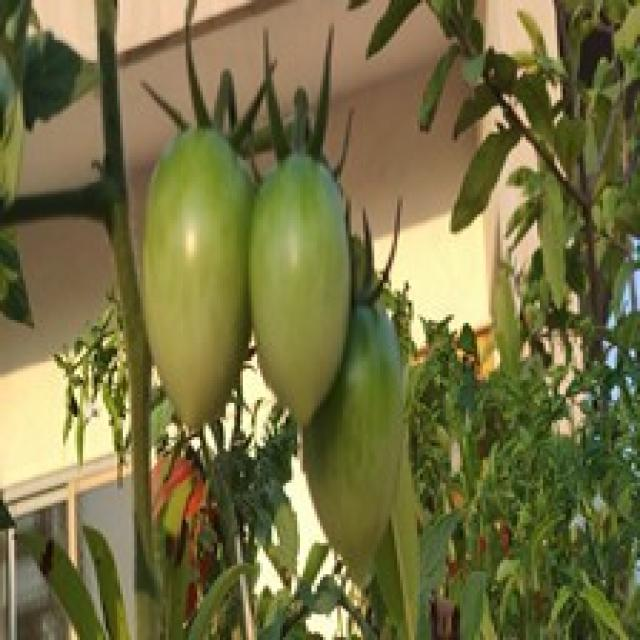tomato: (152, 128, 260, 451), (305, 314, 410, 585), (255, 160, 331, 440)
